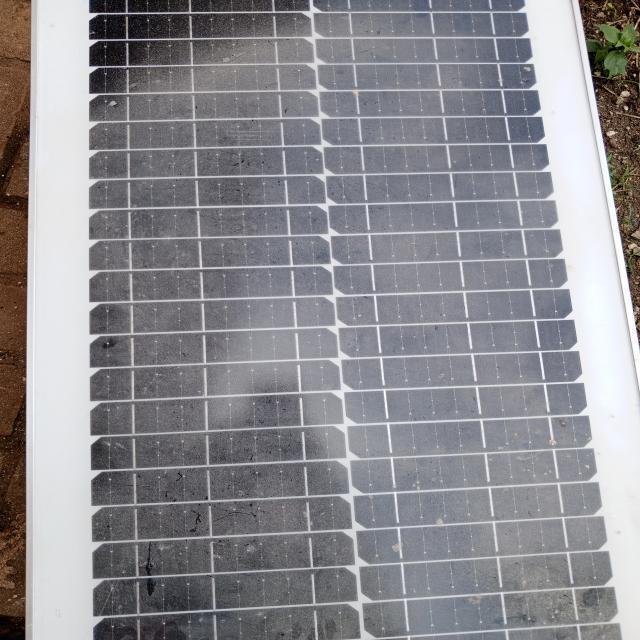Surface Contaminant: (79, 12, 553, 639)
